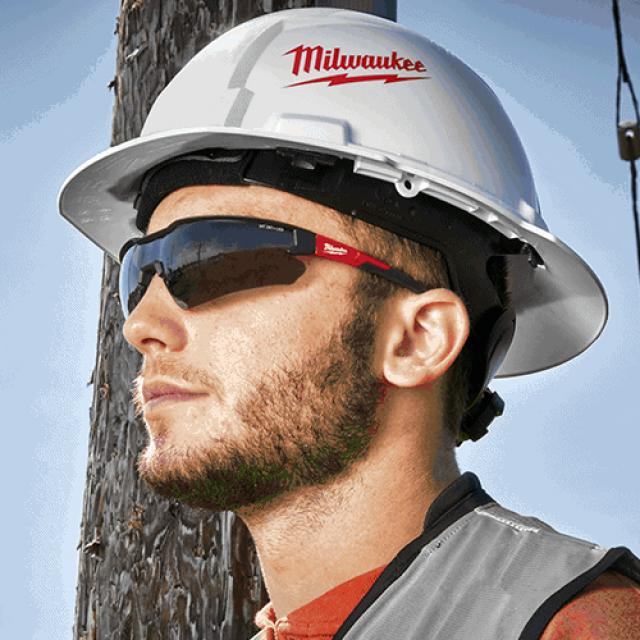Helmet: (37, 5, 640, 221)
Protective Glasses: (99, 228, 442, 324)
